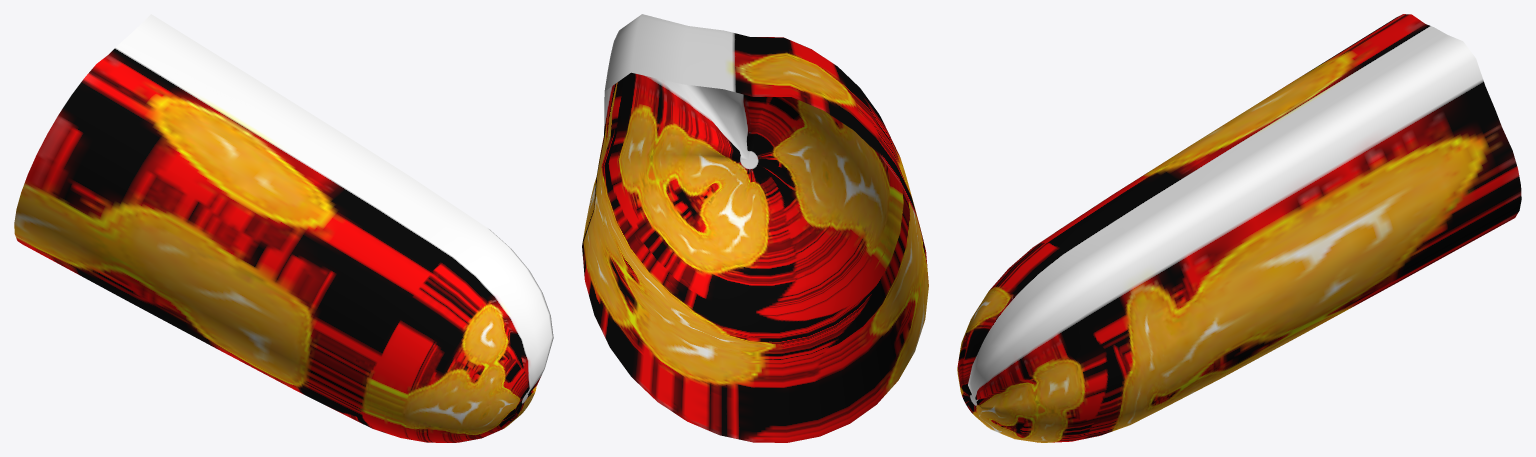
File: effect_bzll_juexing_qiang_dongzuo #338820.fbx
The picture shows the model from 3 angles, left to right: view 1: azimuth 30°, elevation 25°; view 2: azimuth 150°, elevation 25°; view 3: azimuth 270°, elevation 25°; orthographic projection. The views are drawn at different scales.
Visible parts, largest first — view 1: effect_bzll_juexing_qiang; view 2: effect_bzll_juexing_qiang; view 3: effect_bzll_juexing_qiang.
Part boxes in pixels (x1=…): effect_bzll_juexing_qiang: x1=14, y1=14, x2=553, y2=442; effect_bzll_juexing_qiang: x1=582, y1=14, x2=928, y2=442; effect_bzll_juexing_qiang: x1=957, y1=14, x2=1521, y2=442.
Bounding box in the file's own units: 0.5673 × 0.4791 × 0.7239.
